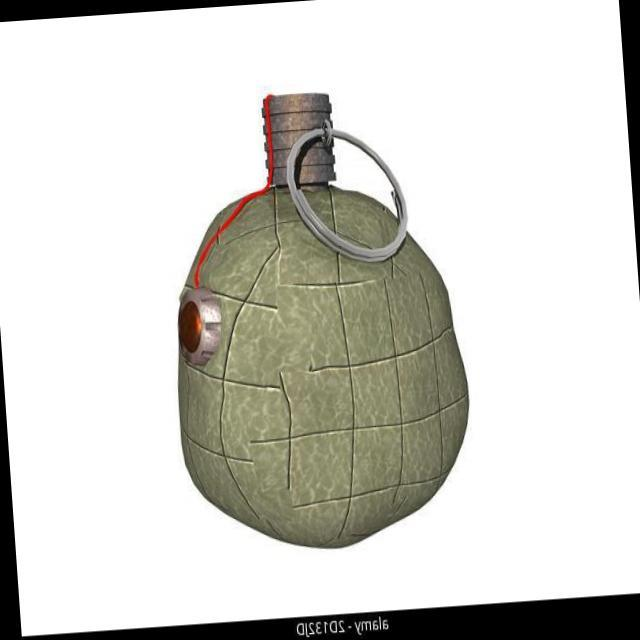grenade: (147, 54, 484, 554)
